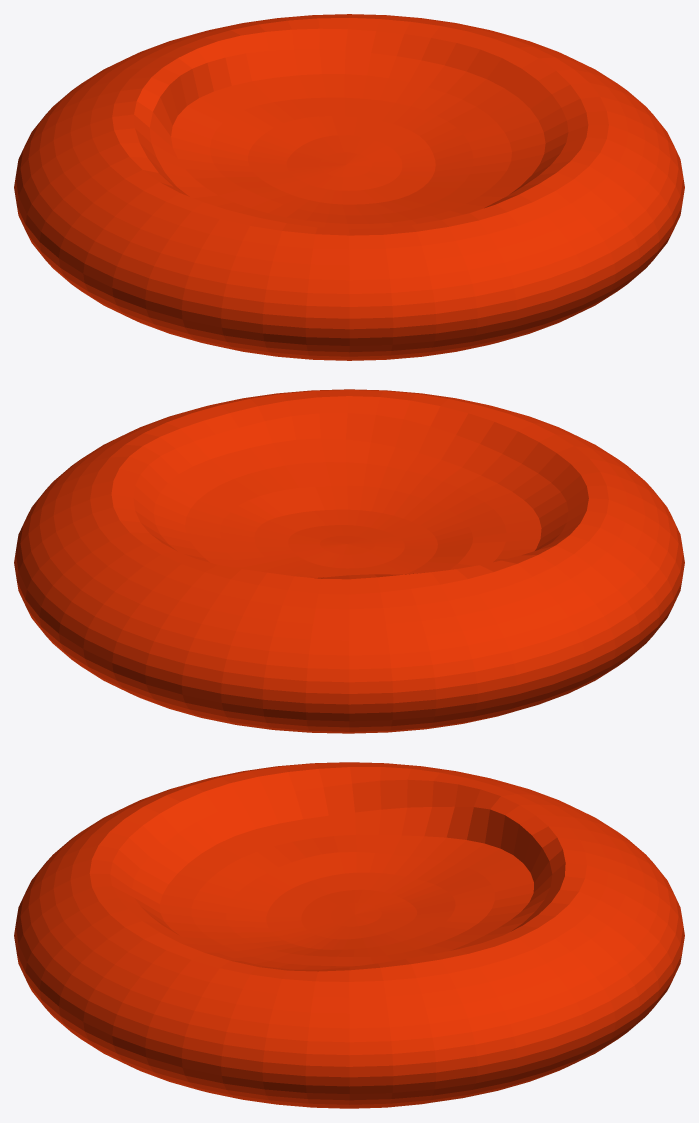
File: GlobuleRouge.fbx
The picture shows the model from 3 angles, top to bottom: view 1: azimuth 30°, elevation 25°; view 2: azimuth 150°, elevation 25°; view 3: azimuth 270°, elevation 25°; orthographic projection.
Visible parts, largest first — view 1: Sphere; view 2: Sphere; view 3: Sphere.
Part boxes in pixels (x1=…): Sphere: x1=14, y1=14, x2=684, y2=360; Sphere: x1=14, y1=389, x2=684, y2=733; Sphere: x1=14, y1=762, x2=684, y2=1108.
Bounding box in the file's own units: 2 × 0.4732 × 2.
